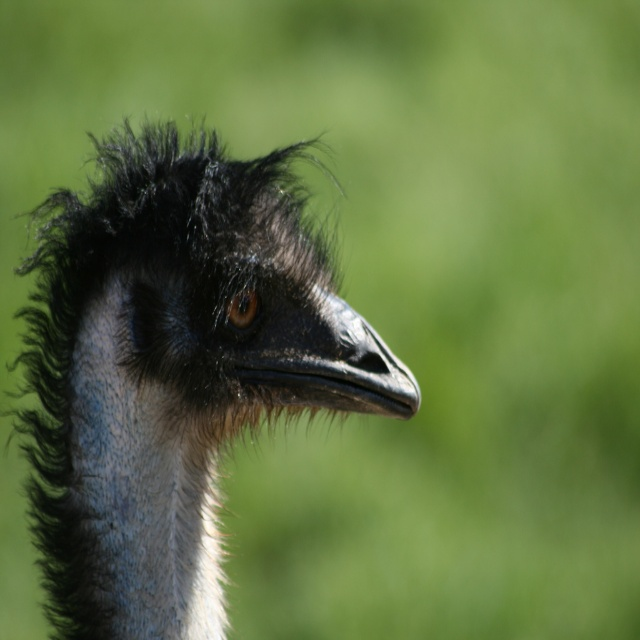Ostrich: (0, 108, 422, 640)
